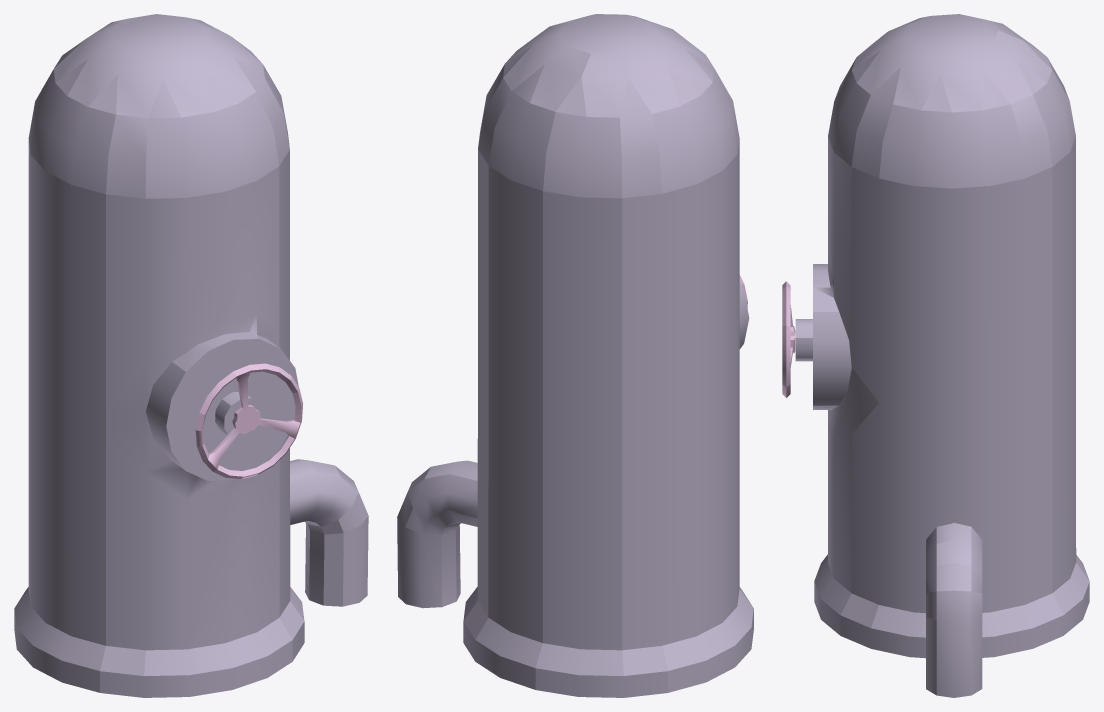
The model's file is boiler3.fbx.
3 renders of one model, left to right at view 1: azimuth 30°, elevation 25°; view 2: azimuth 150°, elevation 25°; view 3: azimuth 270°, elevation 25°, orthographic. The views are drawn at different scales.
Parts seen in each view (by area): view 1: AF_zakrecacz; view 2: AF_zakrecacz; view 3: AF_zakrecacz.
Part boxes in pixels (bbox=[...]): AF_zakrecacz: bbox=[14, 14, 368, 697]; AF_zakrecacz: bbox=[397, 14, 753, 697]; AF_zakrecacz: bbox=[782, 14, 1089, 697].
Size of the model in its own units: 220 by 381 by 186.
